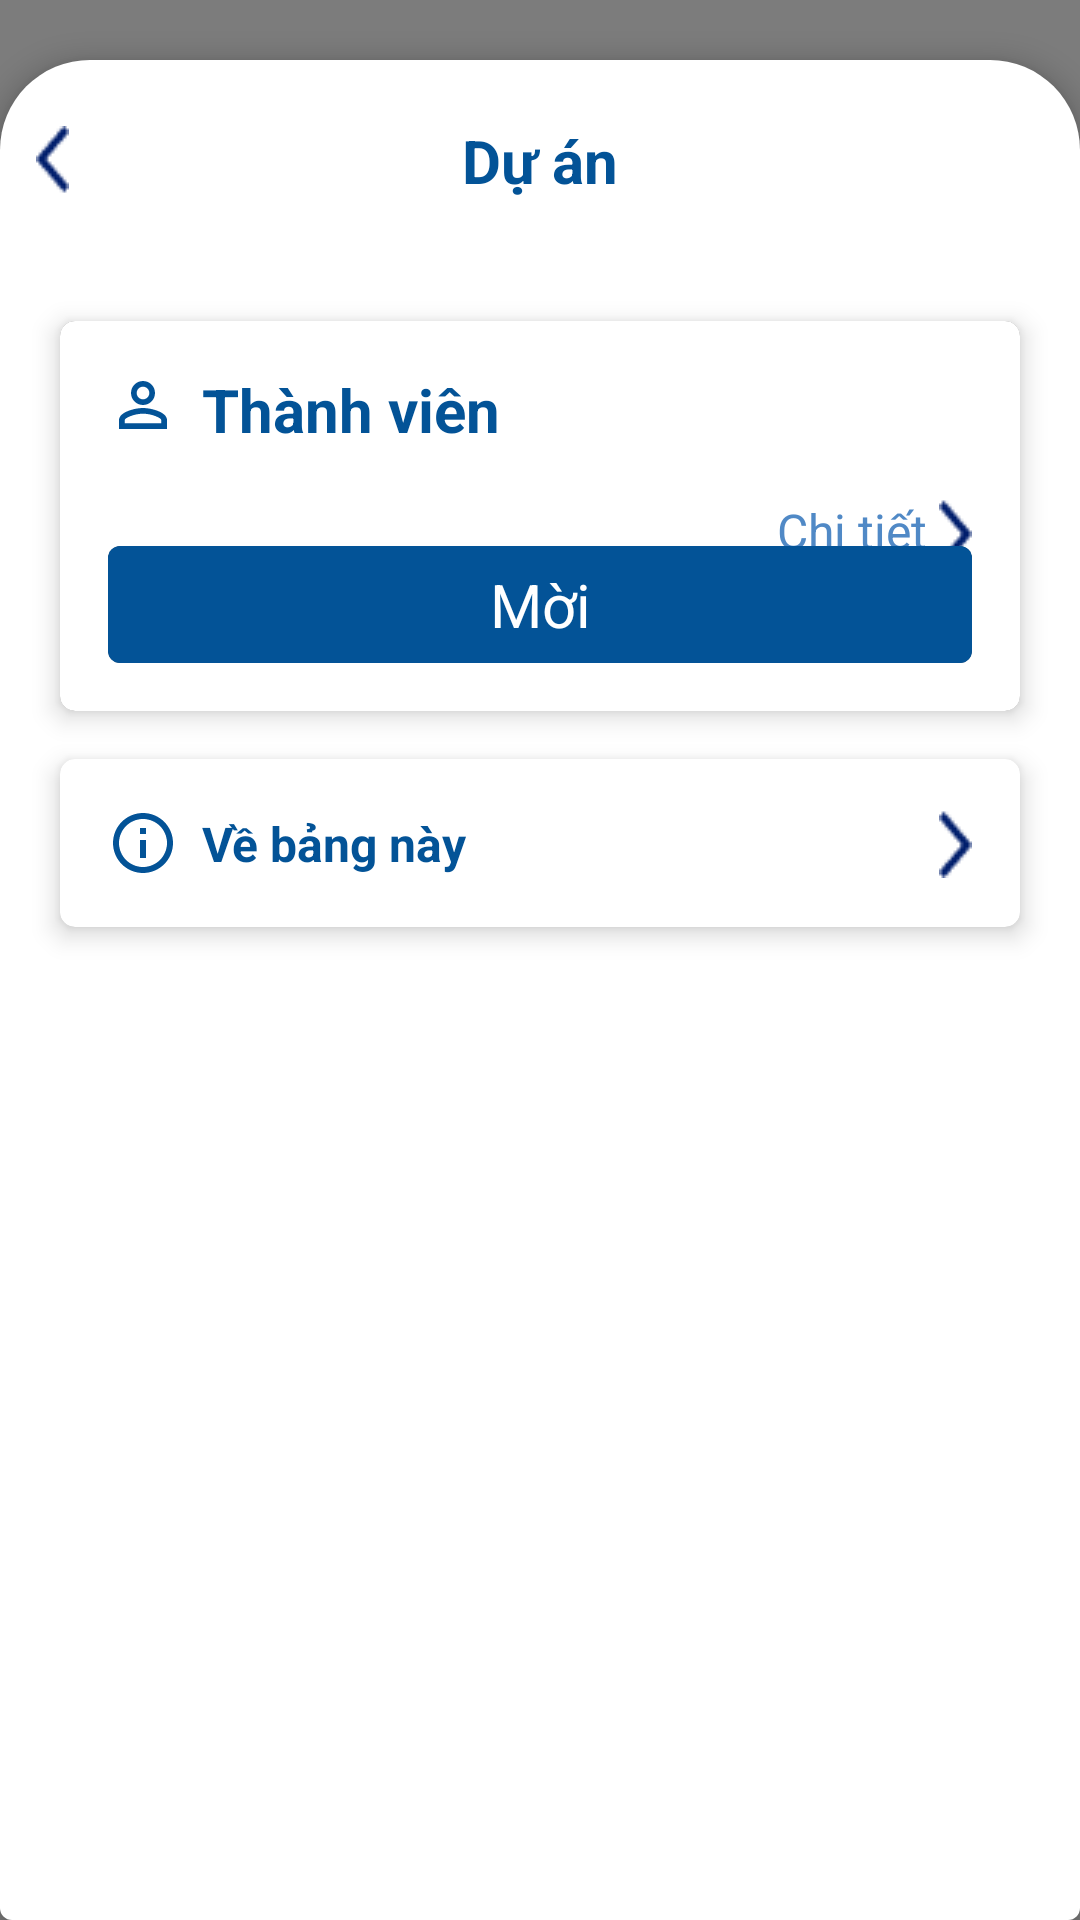

Icon click points for this 1080px×1920px phone screenshot, format point (x, y):
info: point (143, 843)
person: point (143, 405)
